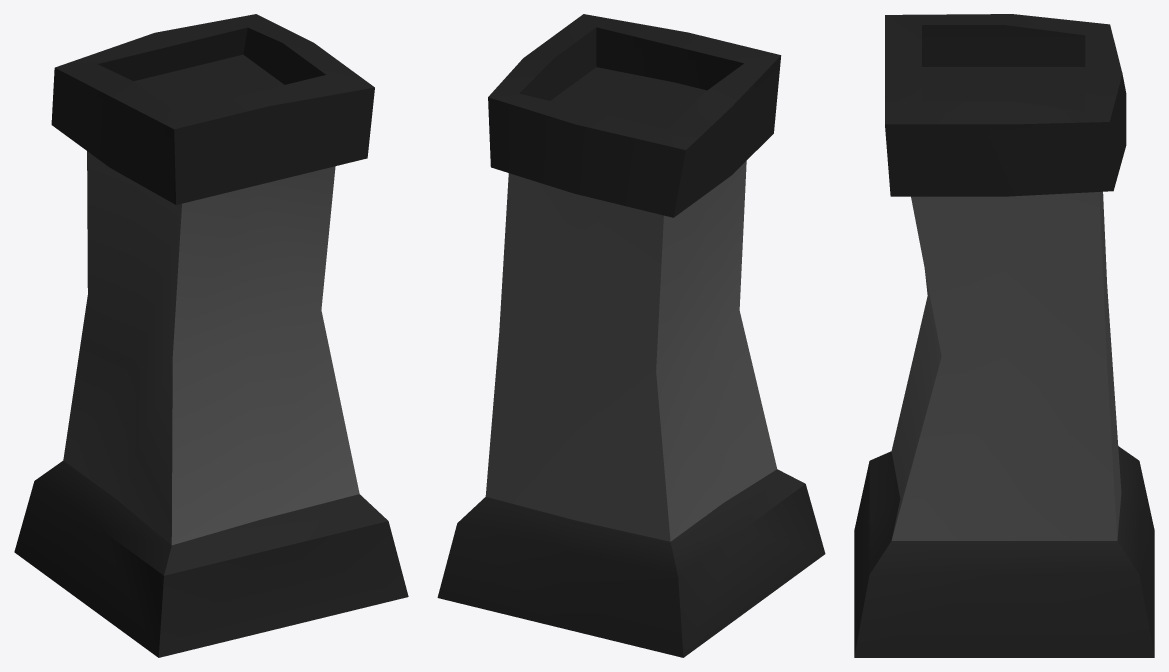
Rendered from Pillar_rough_C.fbx.
3 views of the same model, side by side, from view 1: azimuth 30°, elevation 25°; view 2: azimuth 150°, elevation 25°; view 3: azimuth 270°, elevation 25° (orthographic). The views are drawn at different scales.
Visible parts, largest first — view 1: Pillar_rough_C; view 2: Pillar_rough_C; view 3: Pillar_rough_C.
Part boxes in pixels (x1,y1,x2,y2): Pillar_rough_C: (14,14,408,657); Pillar_rough_C: (437,14,825,657); Pillar_rough_C: (854,14,1154,657).
Bounding box in the file's own units: 50.58 × 98.67 × 50.58.
